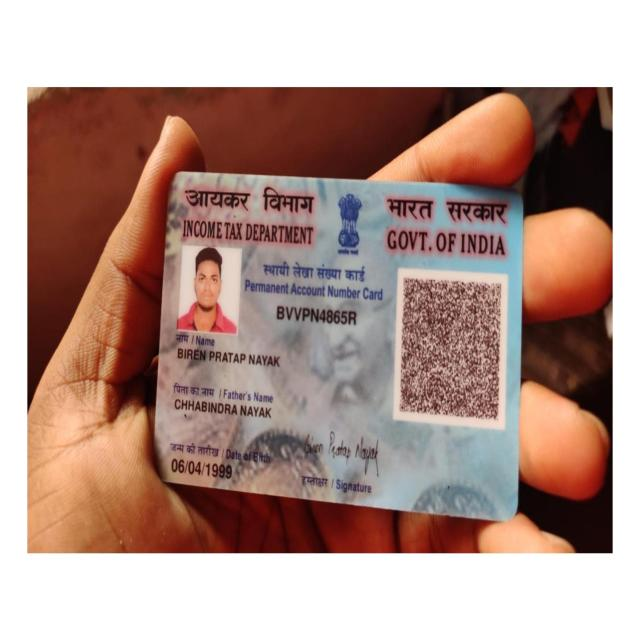pan_card: (159, 176, 519, 517)
